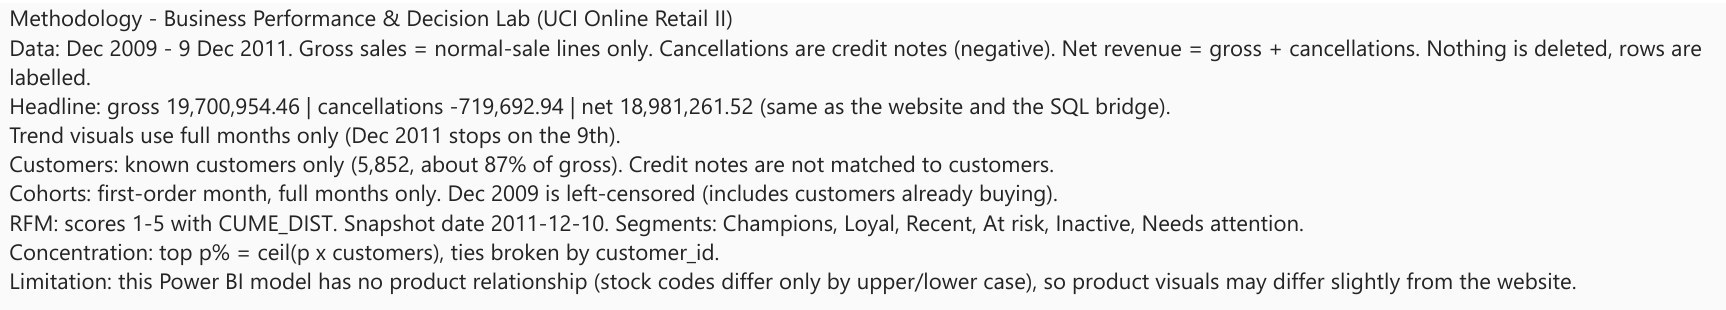

This screenshot's page, from the dashboard's own definition file:
{"tool":"powerbi","page":{"name":"Methodology","canvas":[1920,1080],"ordinal":2},"visuals":[{"type":"textbox","box":[10.3,0,1626.1,1014.8],"z":0}]}

Visuals, with their boxes on the page's 1920x1080 design canvas (x1, y1, x2, y2). These are canvas units, not pixel positions in the 1726x310 screenshot, which may show the page scaled, cropped or inside an application window:
textbox: (left=10, top=0, right=1636, bottom=1015)
